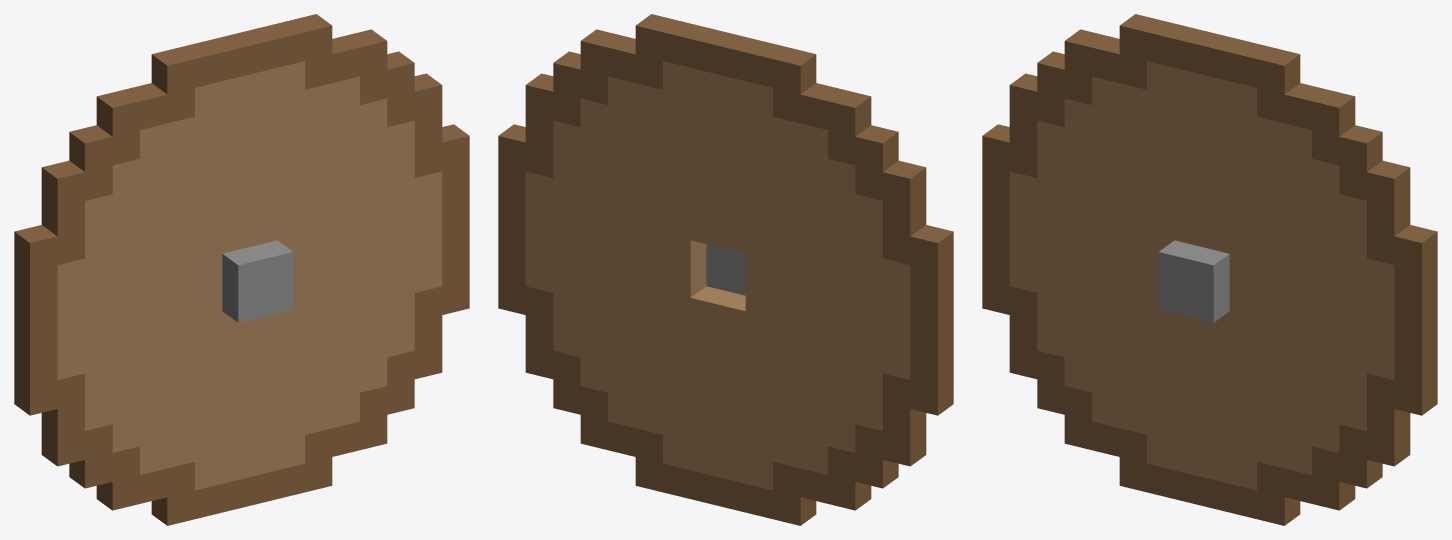
The model's file is characters_export_red-29-shield_med_1_ja.obj.
3 views of the same model, side by side, from view 1: azimuth 30°, elevation 25°; view 2: azimuth 150°, elevation 25°; view 3: azimuth 330°, elevation 25° (orthographic).
Visible parts, largest first — view 1: shield_med_1_ja; view 2: shield_med_1_ja; view 3: shield_med_1_ja.
Part boxes in pixels (left/top/right/bottom): shield_med_1_ja: left=14, top=14, right=469, bottom=525; shield_med_1_ja: left=498, top=14, right=953, bottom=525; shield_med_1_ja: left=982, top=14, right=1437, bottom=525.
Bounding box in the file's own units: 1.6 × 1.6 × 0.2.
1 material, 1 textured.
